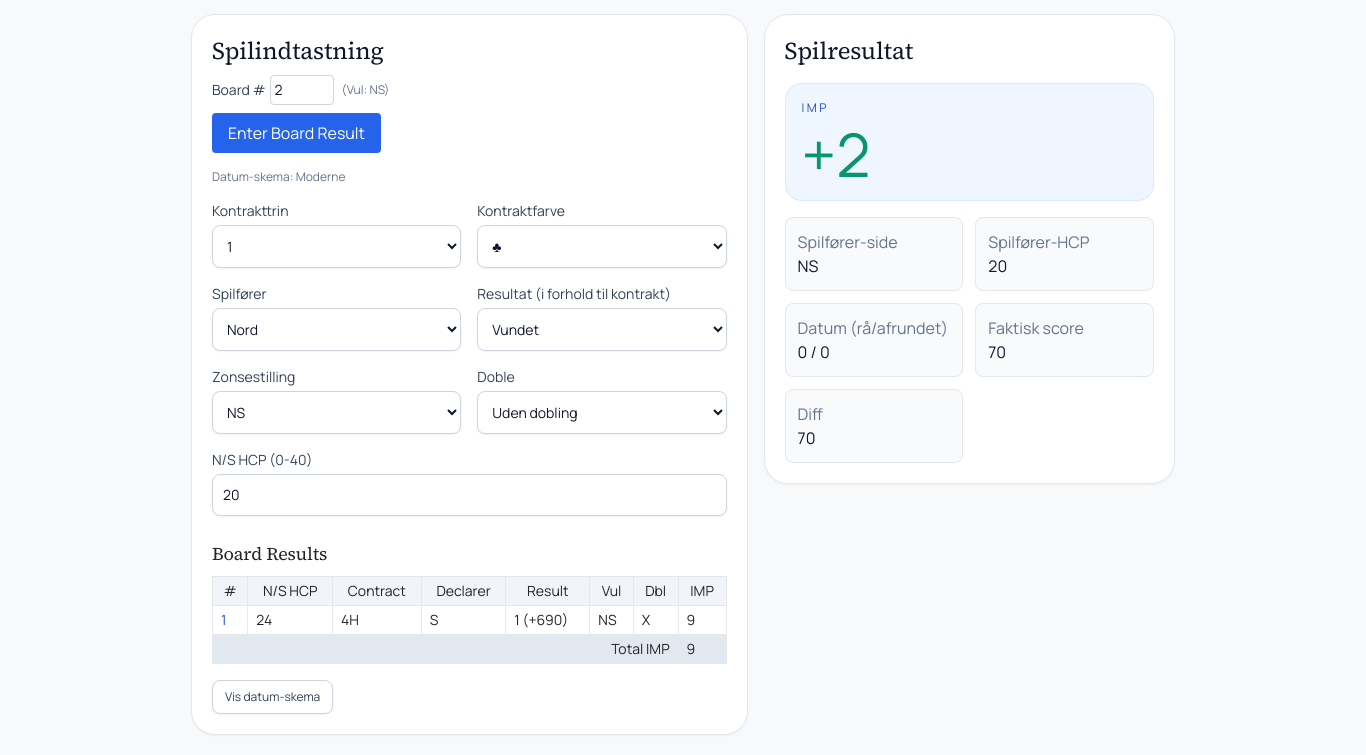
Scenario: BoardEntry › deletes selected board result and resets form while keeping board number
(page scrolled)
Step 1. Click the button "1" → (224, 620), box x1=221 y1=610 x2=226 y2=630
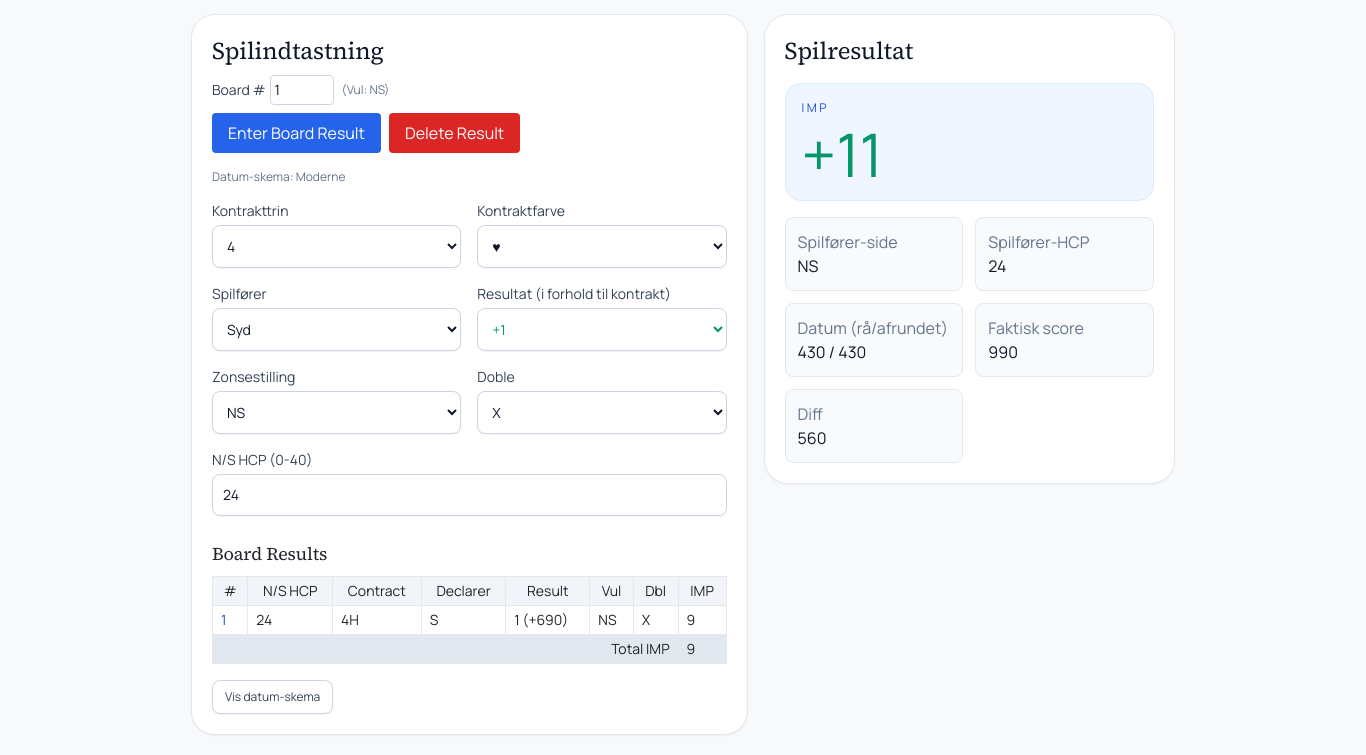
Step 2. Click the button "Delete Result" → (455, 133), box x1=389 y1=113 x2=520 y2=153
(page scrolled)
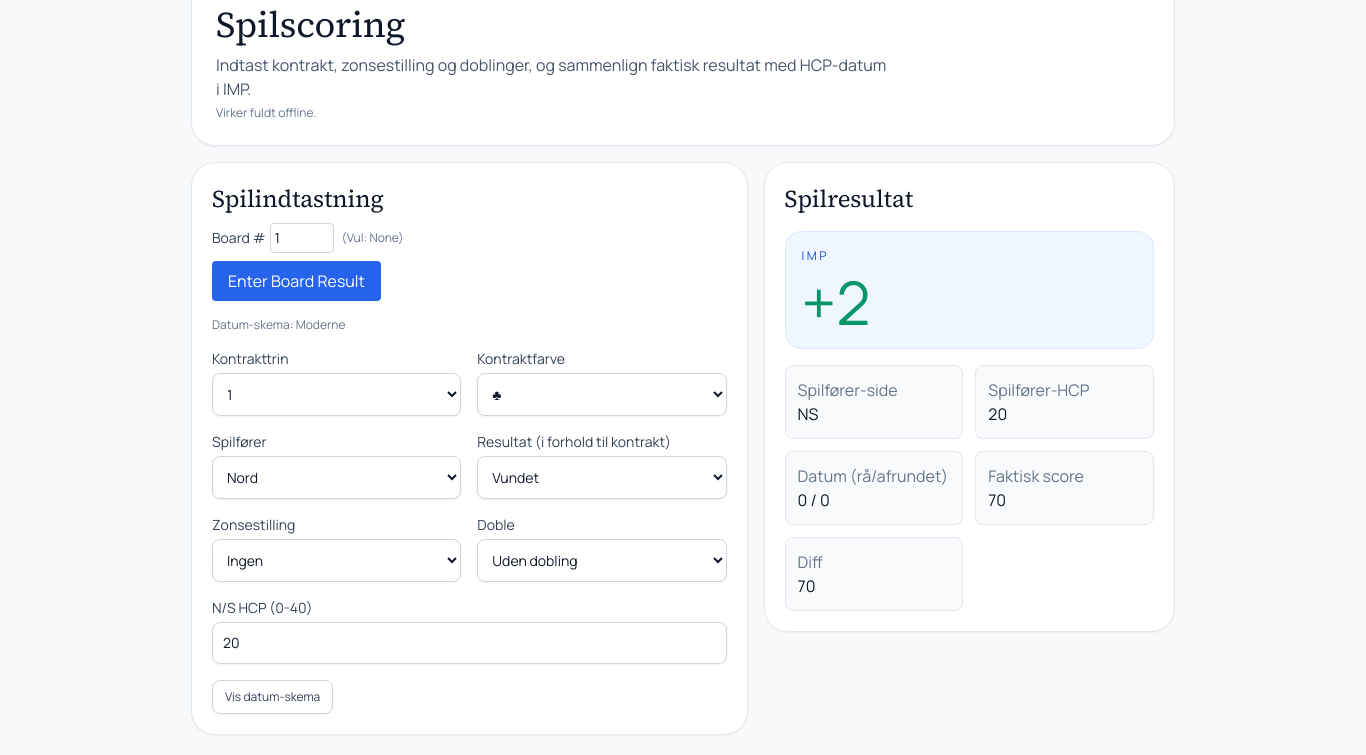
Result: the heading "Board Results" is gone
Result: the dropdown showing "♣" is shown at x1=477 y1=373 x2=727 y2=416
Result: the dropdown showing "Nord" is shown at x1=212 y1=456 x2=461 y2=499
